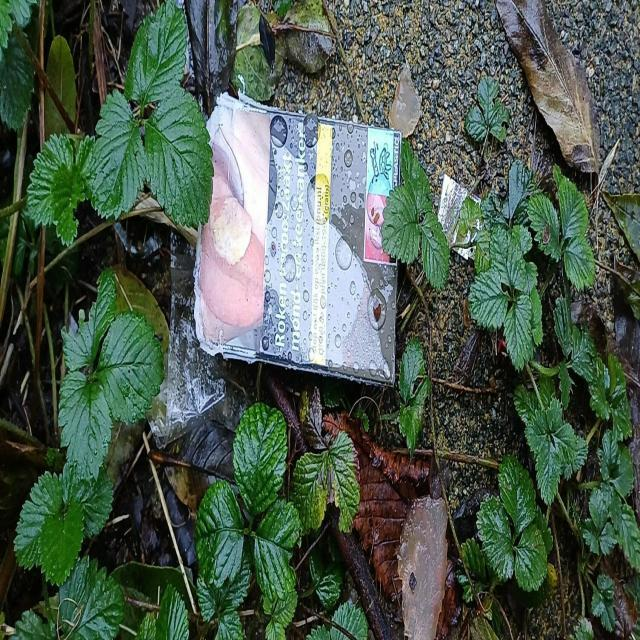Paper: (192, 70, 406, 398)
